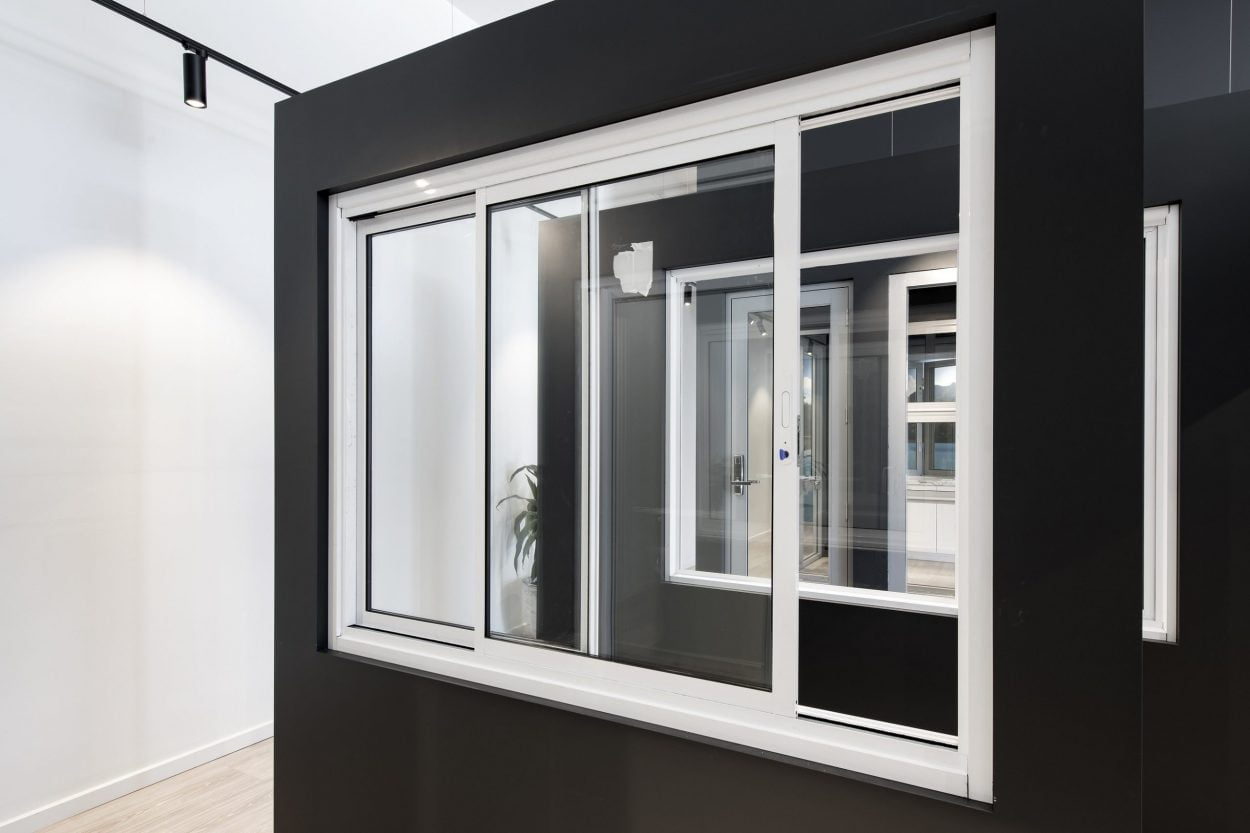Window: (321, 27, 993, 751)
